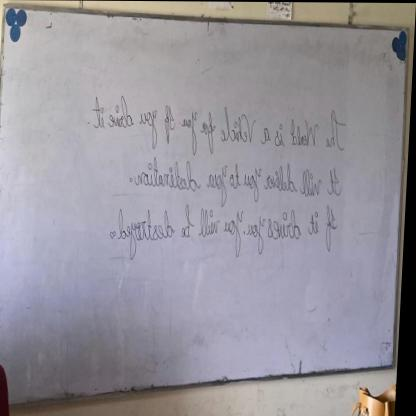Handwritten text: (93, 91, 350, 152), (117, 205, 343, 267), (136, 150, 348, 201)
Whiteboard: (0, 7, 410, 416)
